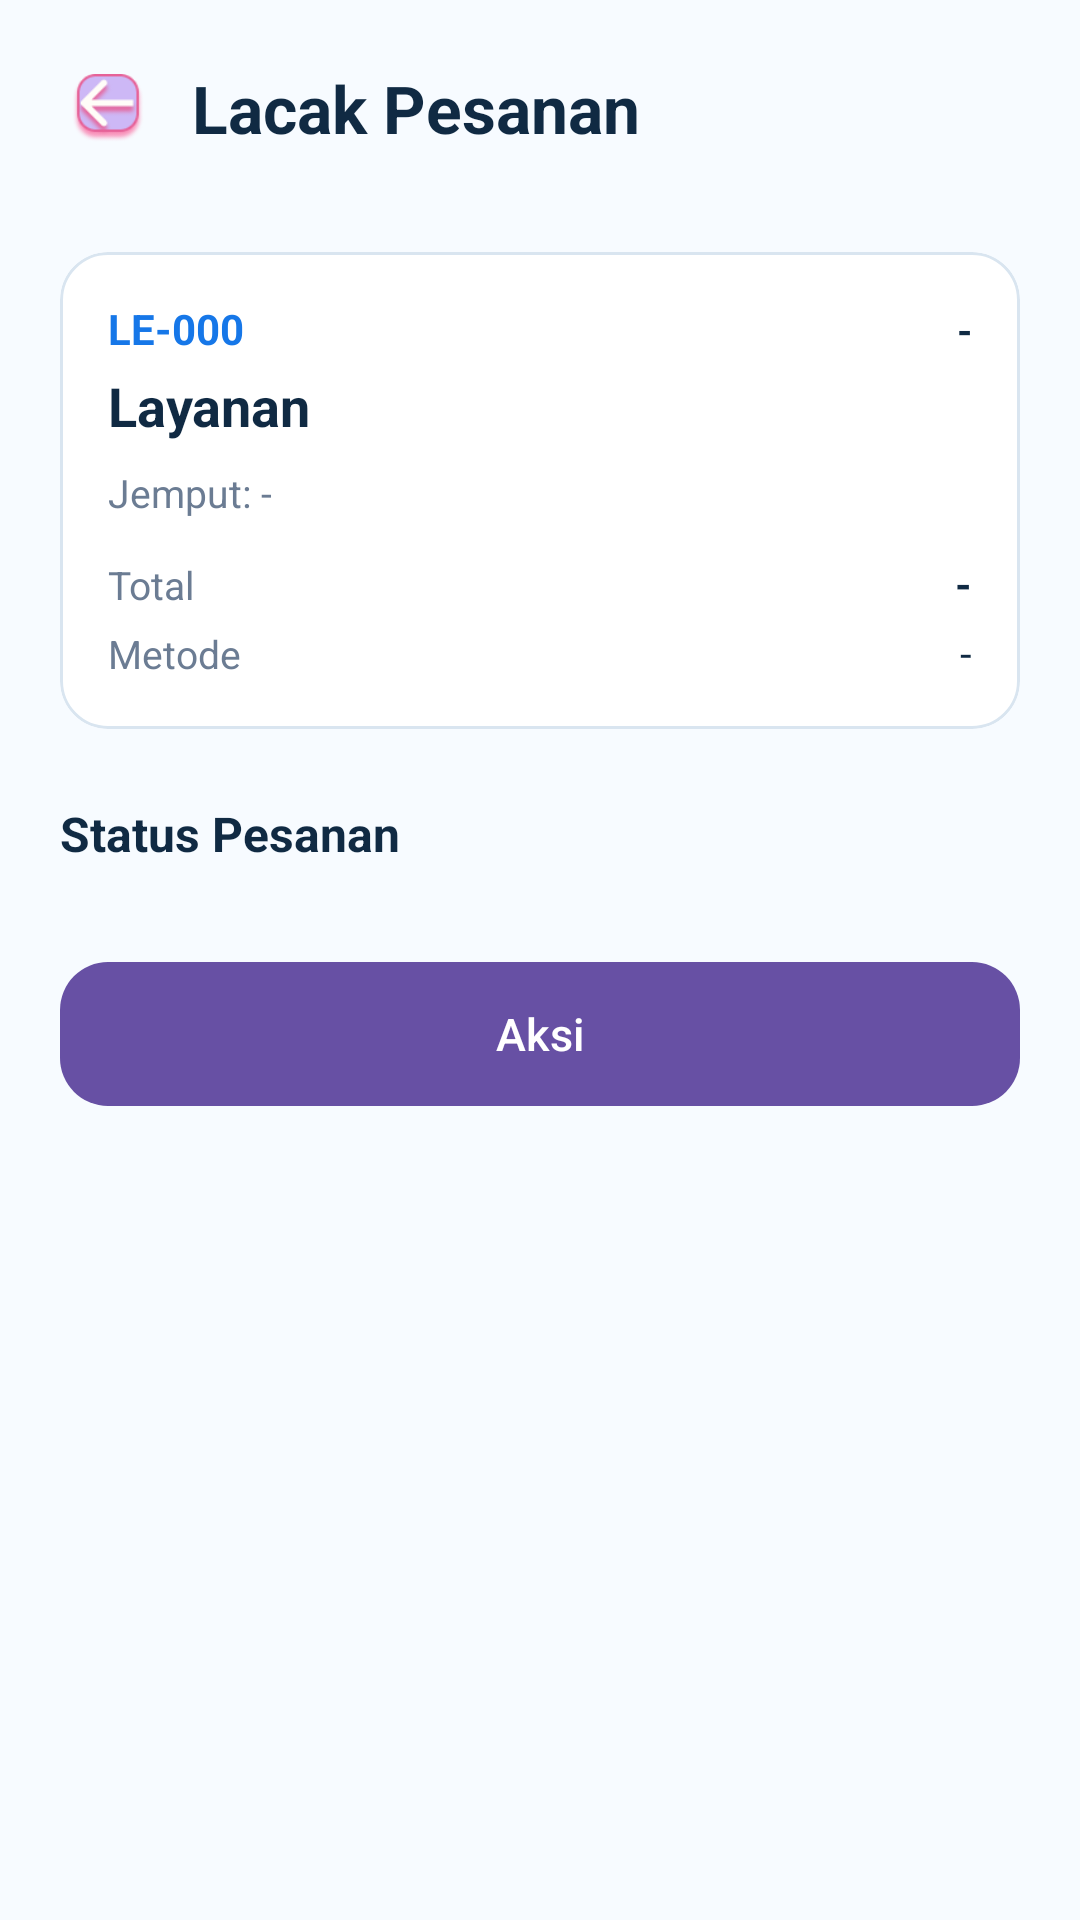

Point at icon controls on the screen. Image size 1080 × 1920, points as point (x, y).
Kembali: point (108, 106)
